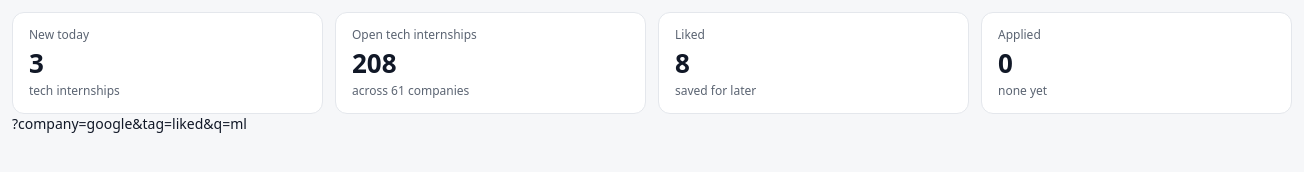
Test: Open tech internships clears every filter, search included
This screenshot has width=1304, height=172.
Expected: the button "New today 3 tech internships" is shown, x1=12 y1=12 x2=323 y2=114
Click the button "Open tech internships 208 across 61 companies" at (414, 34), box x1=335 y1=12 x2=646 y2=114
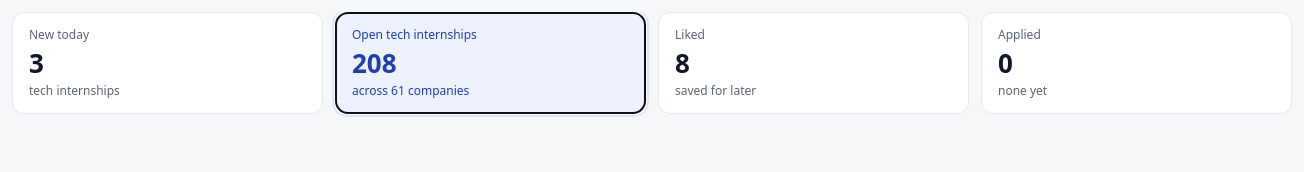
Expected: the button "Open tech internships 208 across 61 companies" is pressed, x1=335 y1=12 x2=646 y2=114
